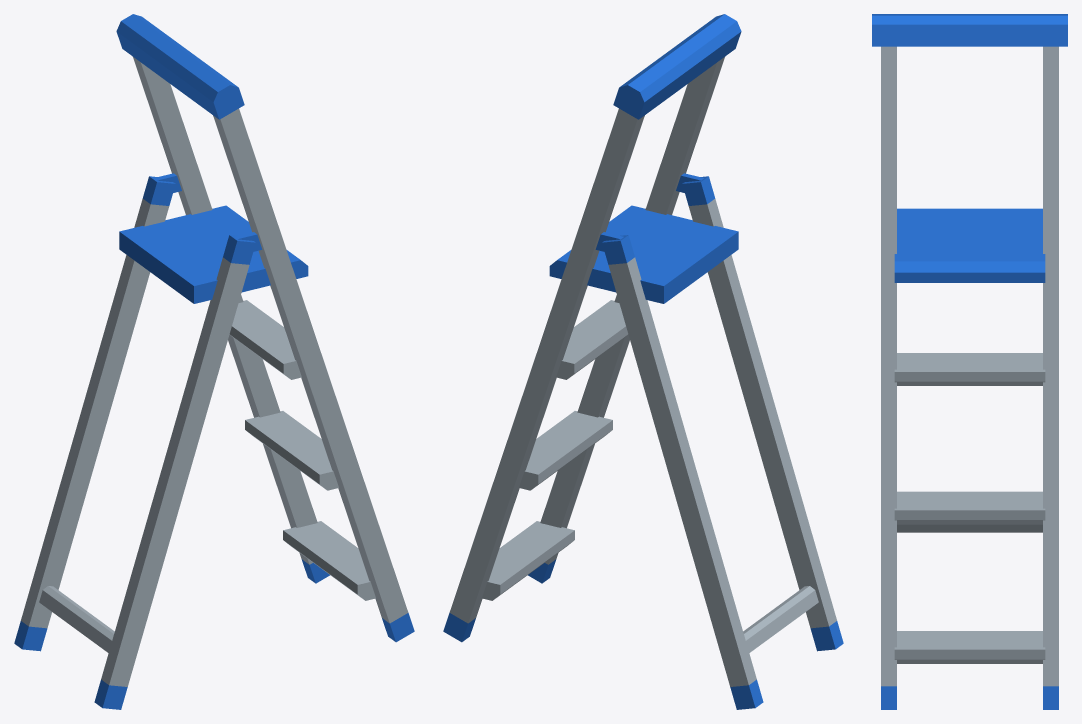
File: StepLadder.fbx
3 renders of one model, left to right at view 1: azimuth 30°, elevation 25°; view 2: azimuth 150°, elevation 25°; view 3: azimuth 270°, elevation 25°, orthographic.
Visible parts, largest first — view 1: Plane.001; view 2: Plane.001; view 3: Plane.001.
Boxes of the visible parts, x1,y1,x2,y2 form: Plane.001: (14, 14, 414, 709); Plane.001: (443, 14, 843, 709); Plane.001: (872, 14, 1067, 709).
Bounding box in the file's own units: 157 × 290 × 84.78.
